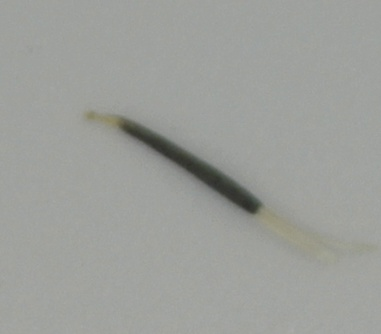เมล็ดดีเรียวยาว: (83, 110, 378, 260)
